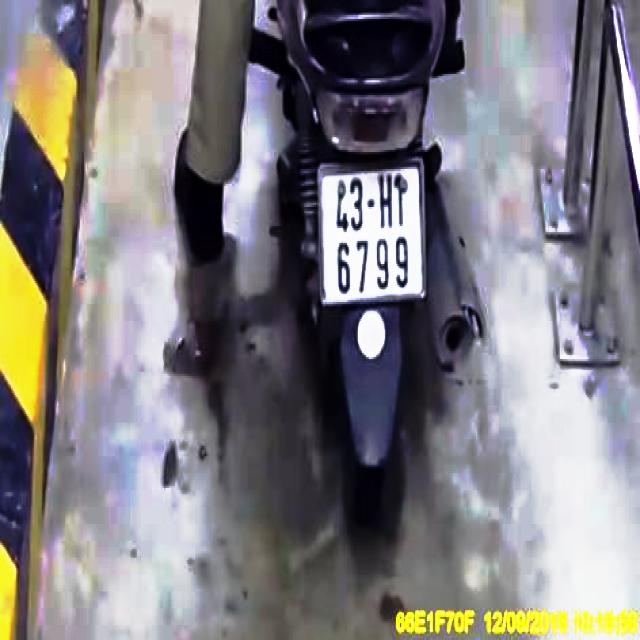license_plate: (321, 161, 424, 306)
